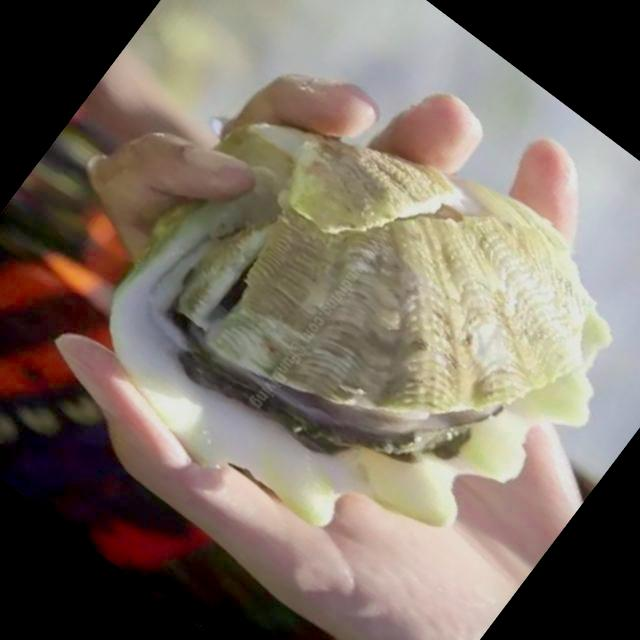Oyster-Open: (110, 121, 614, 506)
